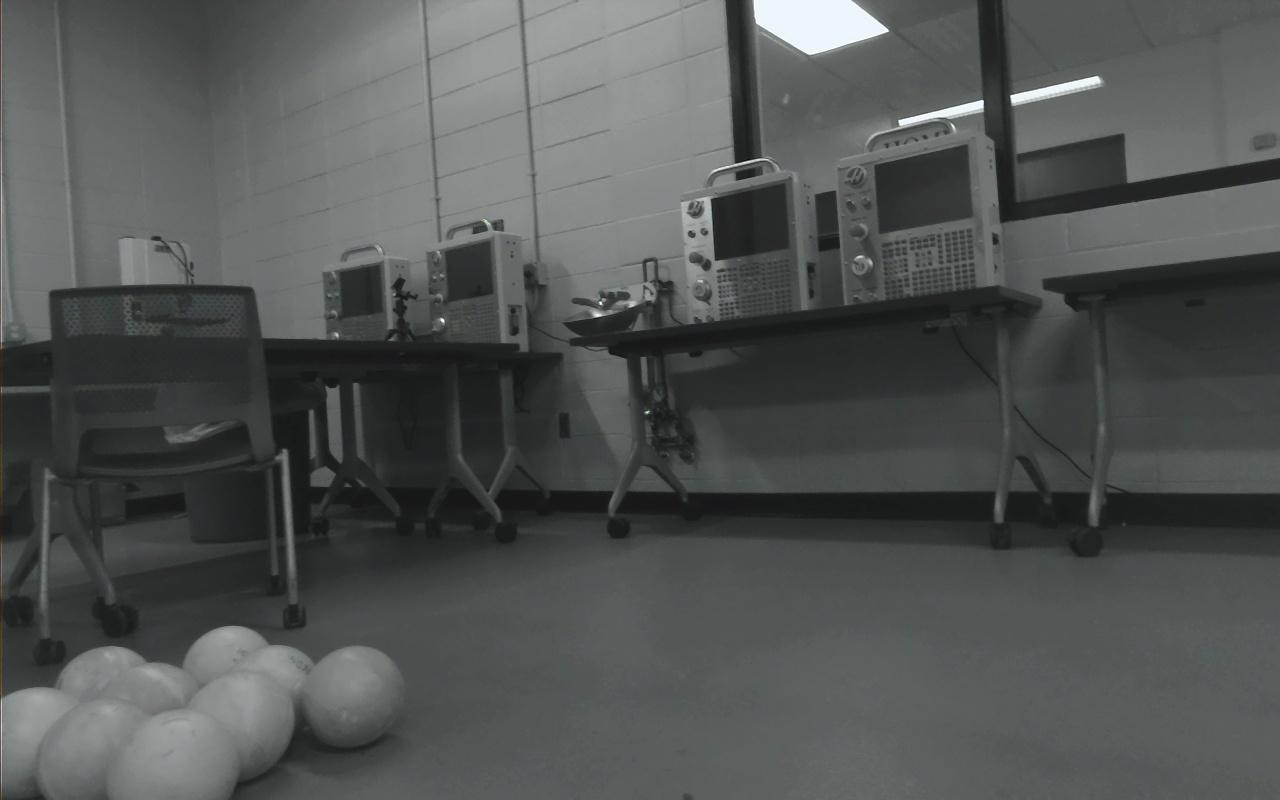Fuel: (184, 669, 296, 784), (36, 696, 155, 800), (105, 709, 239, 800), (302, 645, 406, 749), (0, 686, 82, 799), (228, 644, 317, 738), (97, 661, 202, 733), (55, 645, 150, 716), (180, 625, 270, 694)
